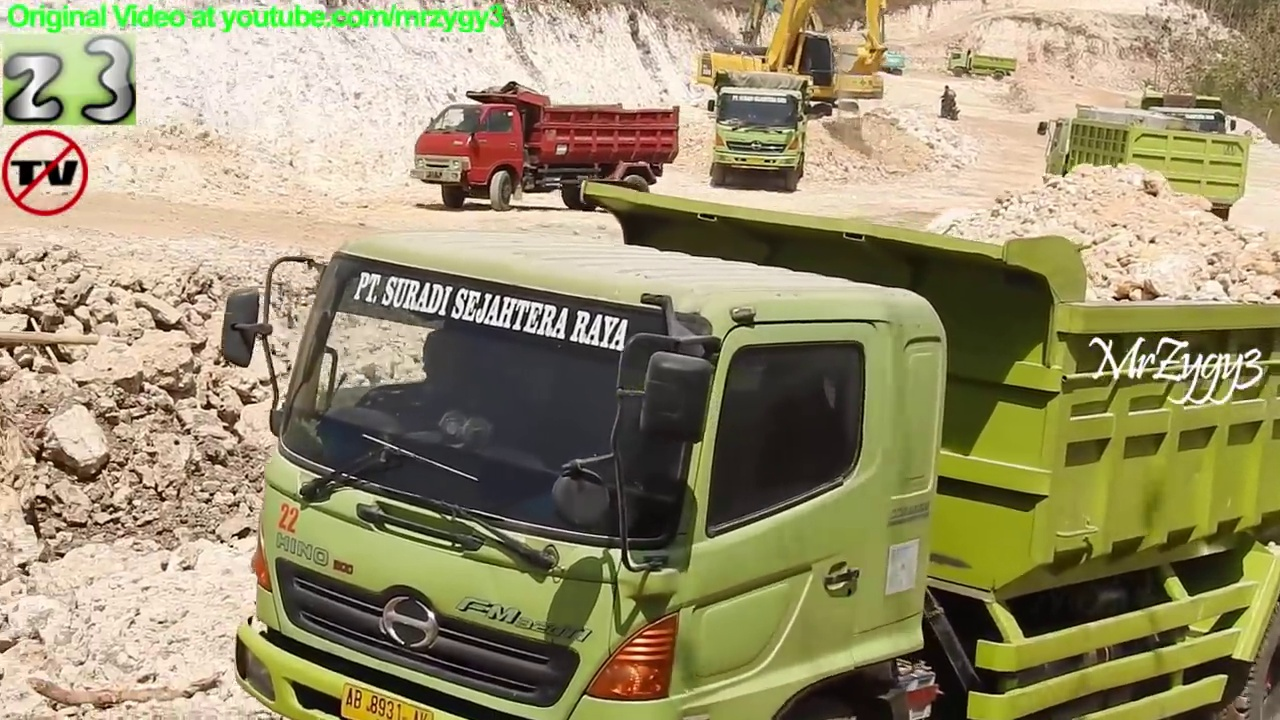excavator: (694, 1, 888, 127), (737, 1, 885, 120), (751, 1, 854, 86), (861, 13, 906, 78)
truck: (216, 178, 1280, 720), (405, 78, 685, 214), (1033, 100, 1255, 244), (706, 68, 819, 198), (1123, 88, 1240, 200), (944, 48, 1020, 79)
